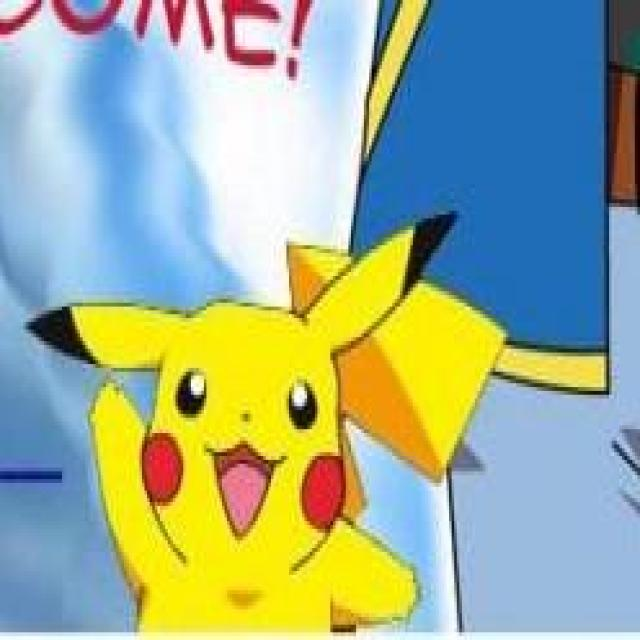pikachu: (26, 211, 507, 634)
